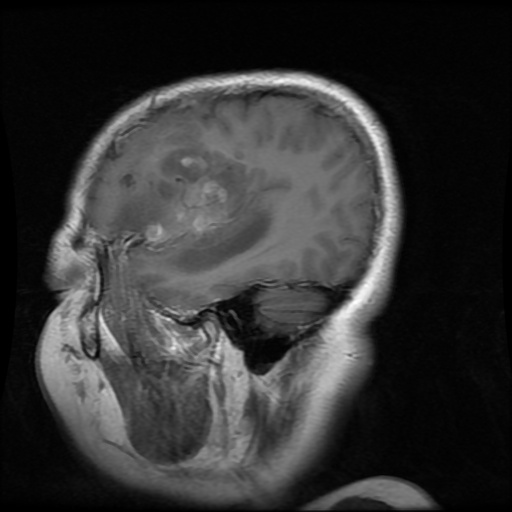glioma: (111, 146, 270, 271)
